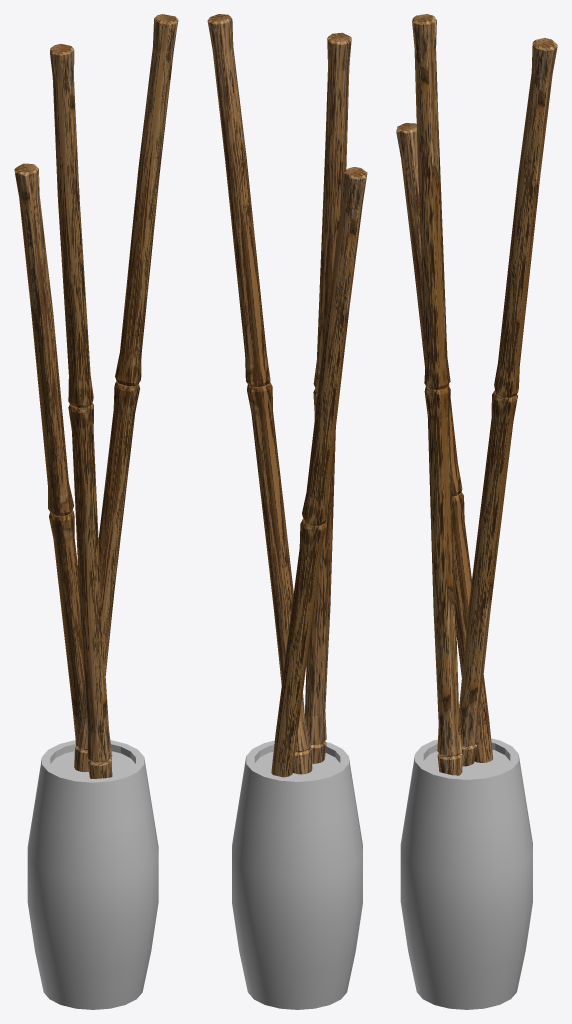
File: Bamboo.FBX
The picture shows the model from 3 angles, left to right: view 1: azimuth 30°, elevation 25°; view 2: azimuth 150°, elevation 25°; view 3: azimuth 330°, elevation 25°; orthographic projection.
Visible parts, largest first — view 1: Bamboo, Vase; view 2: Bamboo, Vase; view 3: Bamboo, Vase.
Part boxes in pixels (<box>): Bamboo: <box>14,14,178,778</box>; Vase: <box>27,740,158,1009</box>; Bamboo: <box>207,14,367,777</box>; Vase: <box>232,740,362,1009</box>; Bamboo: <box>396,14,557,775</box>; Vase: <box>400,738,532,1009</box>.
Size of the model in its own units: 30.87 by 177 by 21.99.
